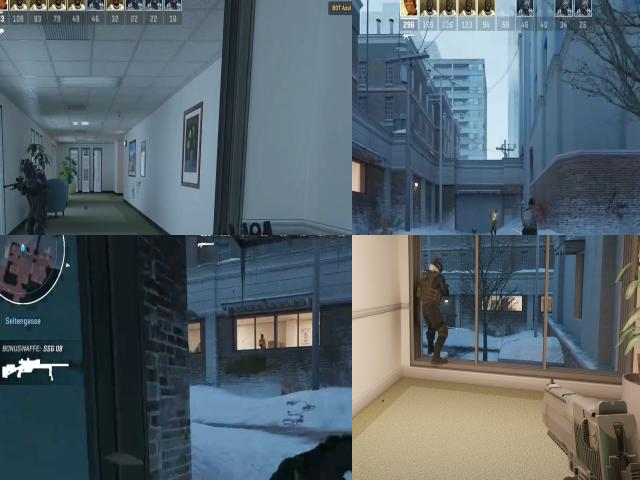CT: (422, 257, 445, 353), (490, 213, 499, 234)
CT-Head: (15, 156, 50, 221), (18, 155, 40, 186), (430, 258, 442, 272)
T: (521, 203, 541, 235), (257, 331, 268, 348)
T-Head: (526, 197, 539, 215), (259, 331, 266, 340)
